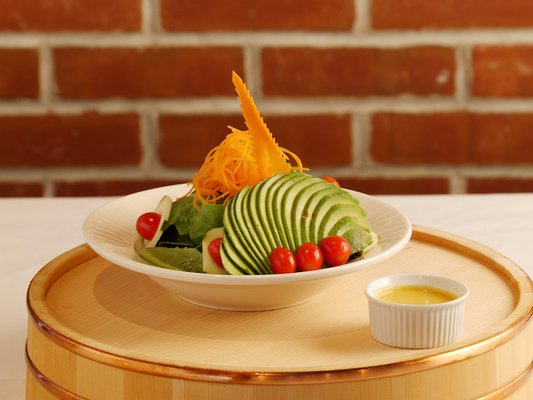sushi: (83, 170, 451, 312)
